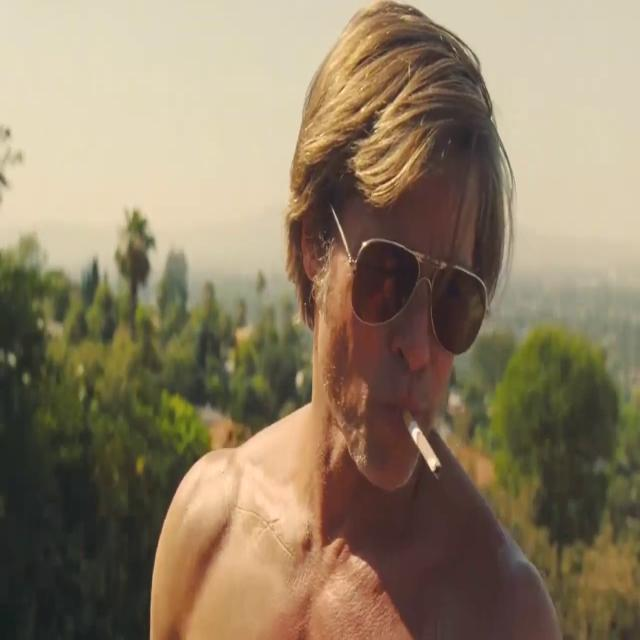Smooking: (404, 408, 455, 487)
